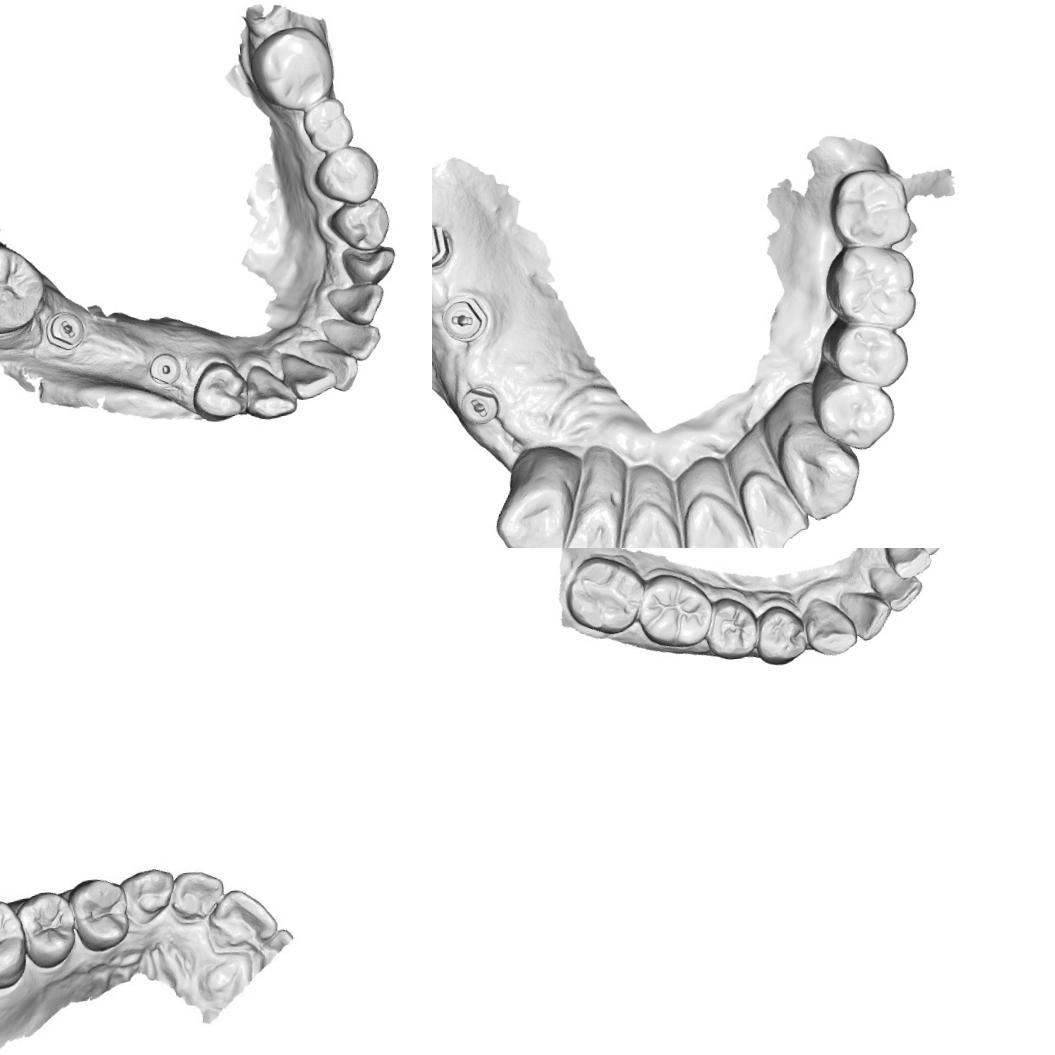canine: (772, 417, 864, 528), (487, 465, 571, 548), (800, 592, 860, 660), (240, 361, 299, 423), (124, 864, 174, 921), (339, 243, 399, 290)
implant: (145, 348, 184, 388)
implant_minus: (434, 290, 490, 350), (456, 381, 502, 427), (44, 310, 87, 352)
implant_plus: (432, 218, 455, 269)
incisor: (738, 464, 817, 548), (676, 484, 766, 548), (604, 501, 690, 548), (300, 336, 362, 396), (322, 312, 392, 364), (553, 498, 625, 548), (210, 891, 272, 948), (866, 560, 926, 616), (838, 586, 896, 643), (323, 279, 388, 329), (278, 351, 340, 402), (173, 868, 225, 920), (883, 548, 934, 582)
molar: (823, 239, 918, 334), (246, 21, 339, 114), (560, 550, 650, 642), (822, 164, 914, 253), (632, 568, 717, 651), (0, 237, 50, 341), (0, 893, 35, 1001), (298, 96, 358, 154)
premolar: (810, 372, 898, 456), (14, 884, 88, 972), (828, 317, 912, 393), (63, 872, 139, 956), (310, 144, 382, 208), (700, 593, 762, 663), (188, 358, 250, 424), (325, 196, 394, 255), (750, 602, 810, 668)
